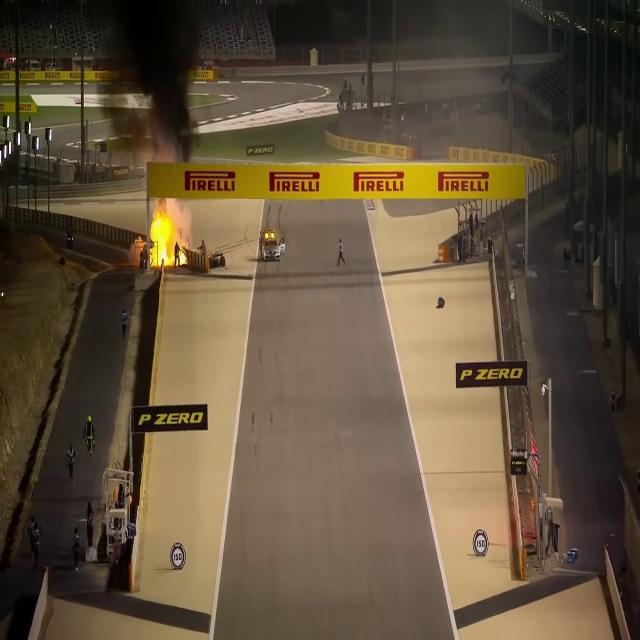Fire: (144, 200, 184, 270)
Smoke: (94, 0, 210, 162)
